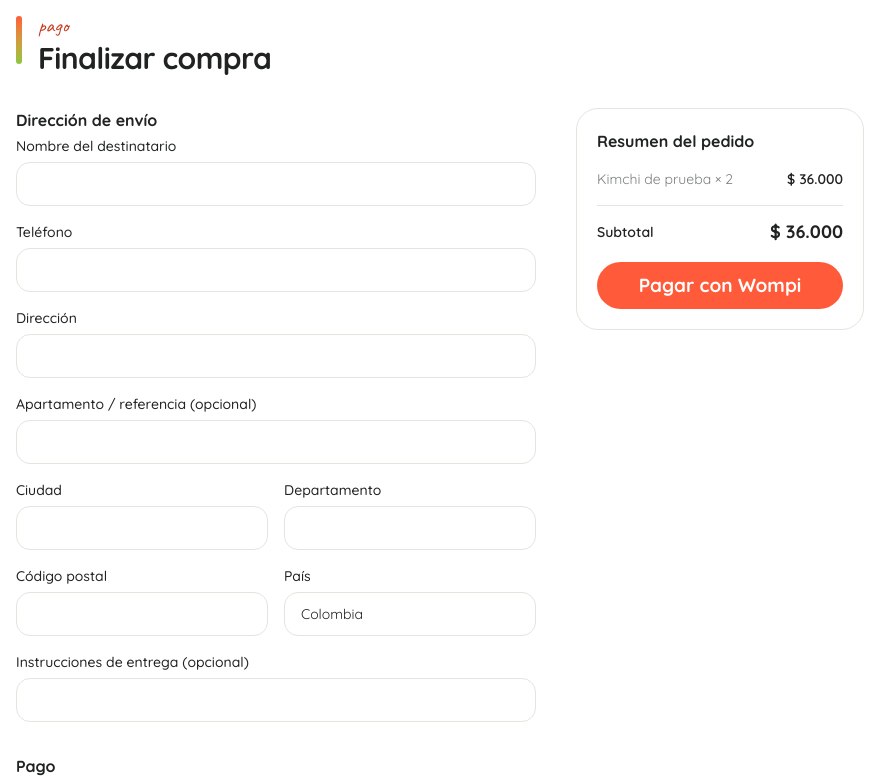
Test: checkout → pasarela › muestra todos los errores de campos requeridos y no envía datos inválidos
Expected: the text "Kimchi de prueba × 2" is shown, [597,169,733,189]
Step 1. Clear the field labelled "País" → x=410, y=614, box [284,592,536,636]
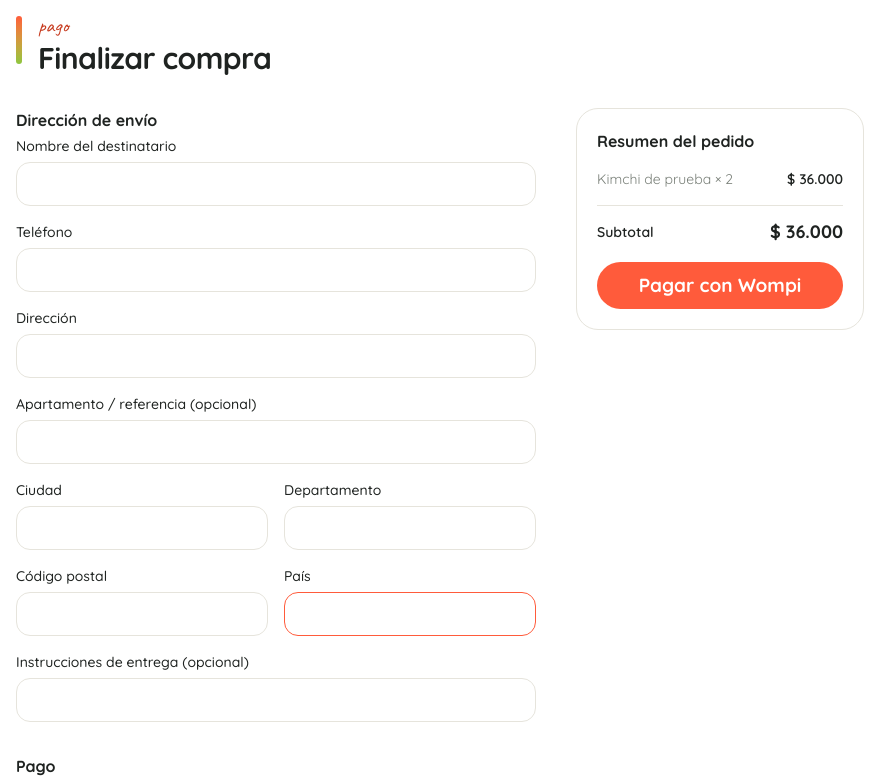
Step 2. Click the button "Pagar con Wompi" → x=720, y=285, box [597,262,843,308]
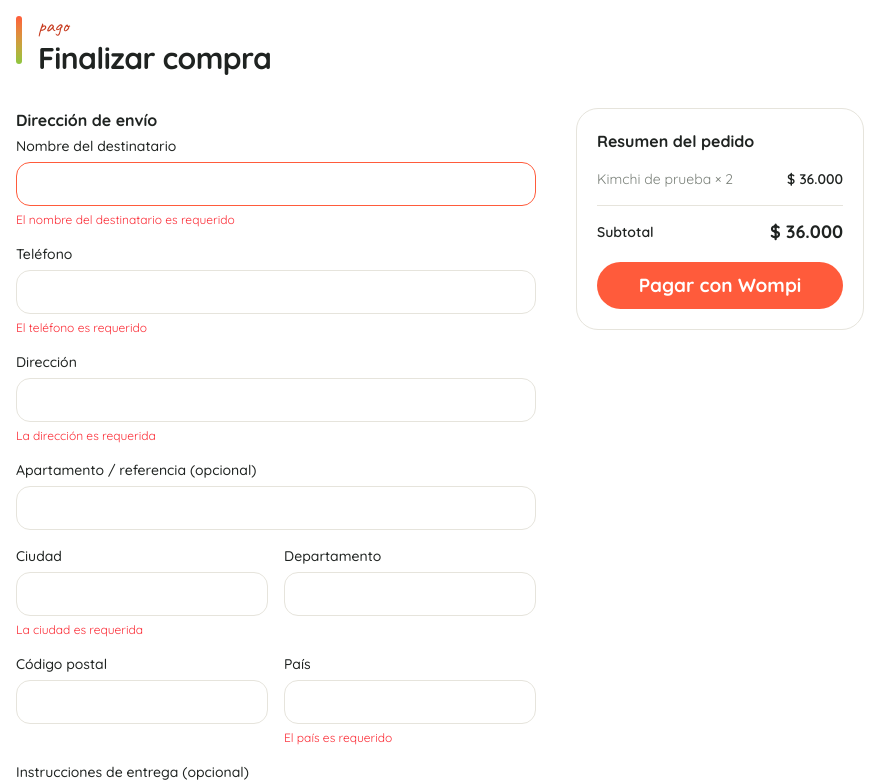
Expected: the text "El nombre del destinatario es requerido" is shown, [16,212,235,227]
Expected: the text "El teléfono es requerido" is shown, [16,320,147,335]
Expected: the text "La dirección es requerida" is shown, [16,428,156,443]
